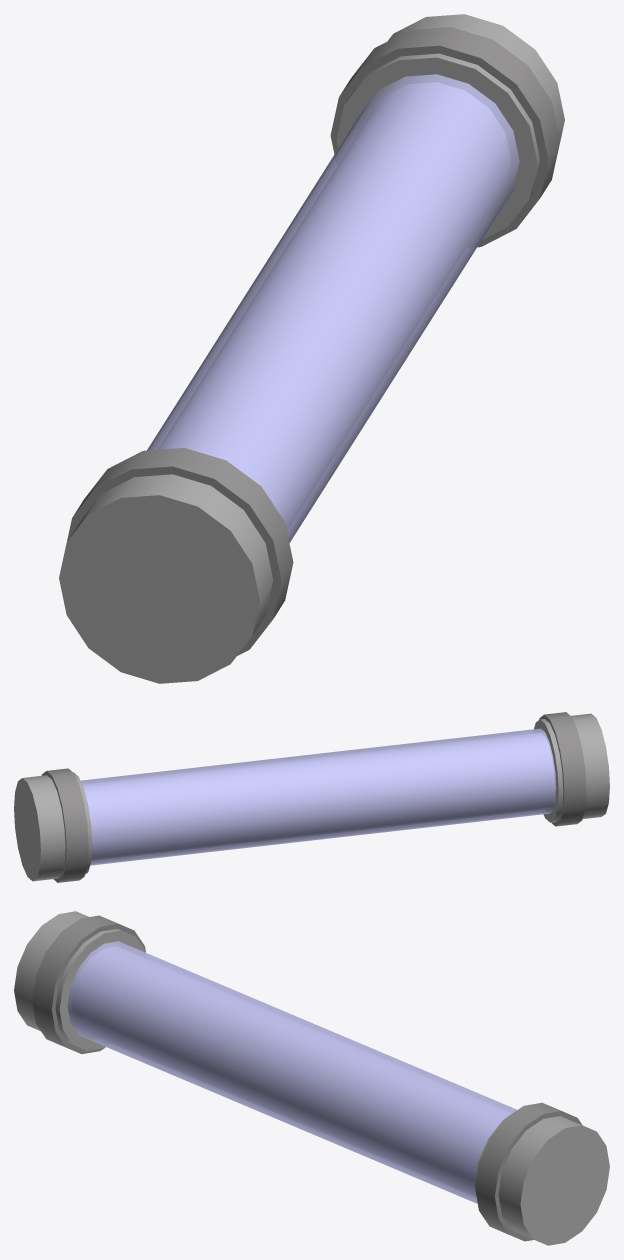
File: CMU3DTreasureSampleTubeDrinksExtraCloudBlank.glb
3 renders of one model, top to bottom at view 1: azimuth 30°, elevation 25°; view 2: azimuth 150°, elevation 25°; view 3: azimuth 270°, elevation 25°, orthographic. The views are drawn at different scales.
Parts seen in each view (by area): view 1: translucent tube envelope, continuous sample inner body, closed grey end plug 0, closed grey end plug 1, plug raised collar 1, plug raised collar 0; view 2: translucent tube envelope, continuous sample inner body, closed grey end plug 1, closed grey end plug 0, plug raised collar 1, plug raised collar 0; view 3: translucent tube envelope, continuous sample inner body, closed grey end plug 1, closed grey end plug 0, plug raised collar 0, plug raised collar 1.
Part boxes in pixels (x1,y1,x2,y2): translucent tube envelope: [147, 74, 519, 542]; continuous sample inner body: [159, 82, 510, 529]; closed grey end plug 0: [59, 474, 273, 683]; closed grey end plug 1: [336, 14, 564, 239]; plug raised collar 1: [330, 27, 560, 247]; plug raised collar 0: [67, 448, 293, 655]; translucent tube envelope: [81, 728, 556, 865]; continuous sample inner body: [83, 733, 554, 860]; closed grey end plug 1: [14, 772, 92, 881]; closed grey end plug 0: [534, 713, 609, 822]; plug raised collar 1: [41, 768, 88, 882]; plug raised collar 0: [539, 712, 586, 826]; translucent tube envelope: [67, 941, 517, 1203]; continuous sample inner body: [72, 947, 511, 1196]; closed grey end plug 1: [475, 1116, 609, 1245]; closed grey end plug 0: [14, 911, 145, 1050]; plug raised collar 0: [32, 915, 145, 1054]; plug raised collar 1: [475, 1102, 582, 1241].
Size of the model in its own units: 0.452 by 0.104 by 0.452.
